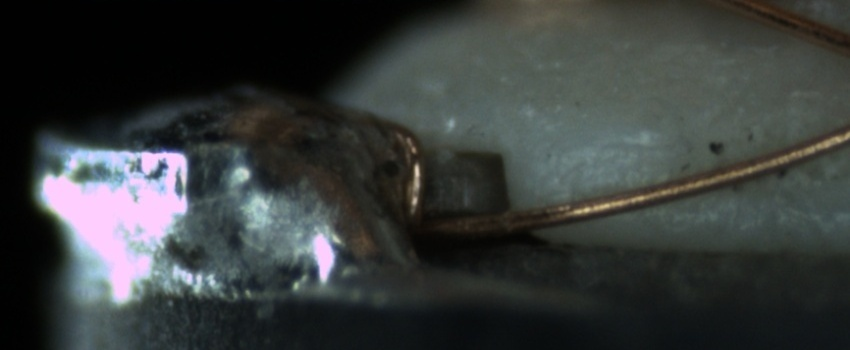DL: (548, 121, 678, 171)
TE: (373, 98, 426, 240)
